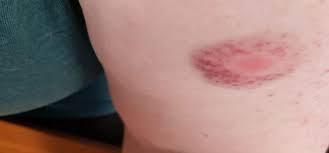Tick: (191, 30, 308, 92)
